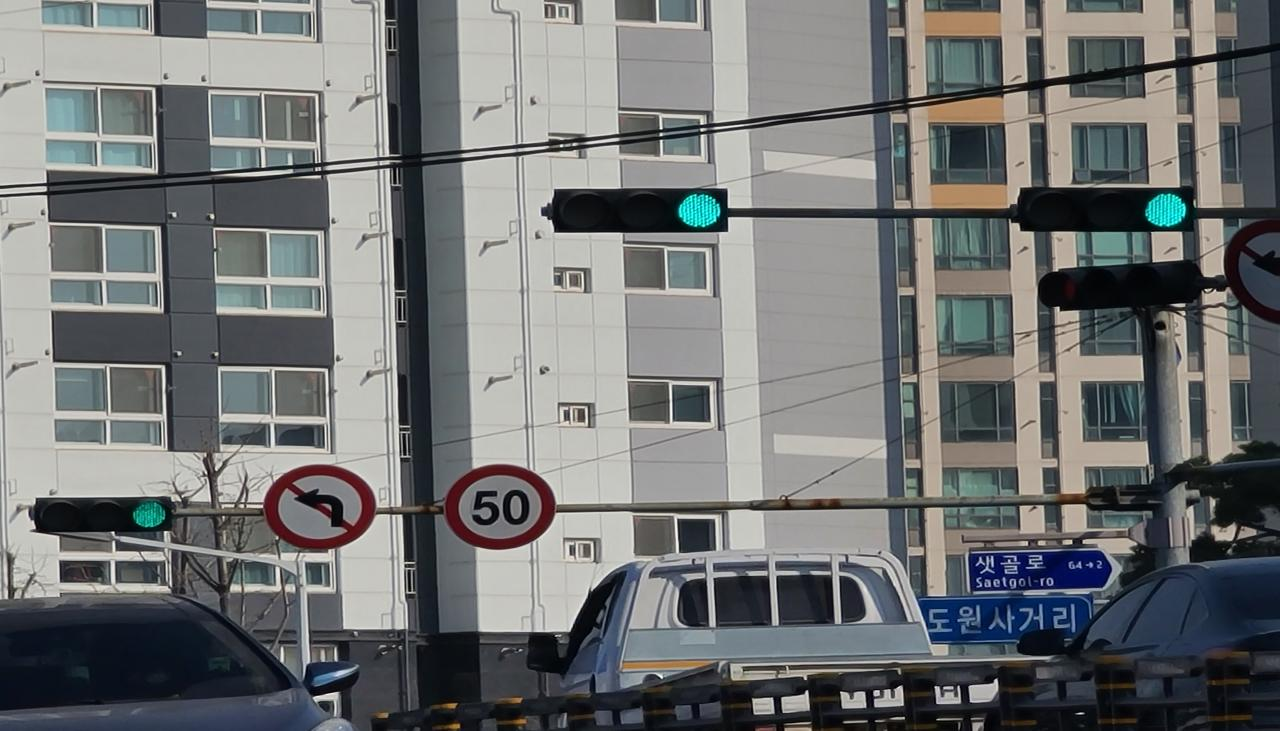Green Light: (671, 188, 725, 232), (1144, 188, 1189, 231), (128, 501, 170, 530)
Red Light: (1052, 274, 1083, 308)
